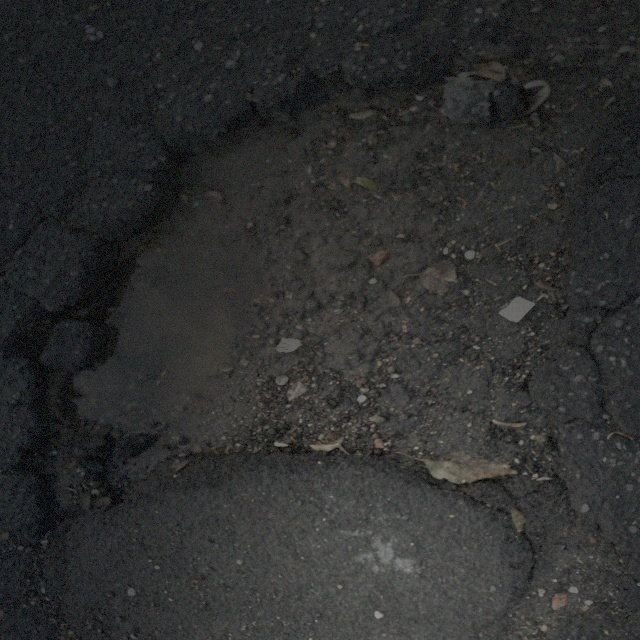pothole: (40, 58, 560, 517)
